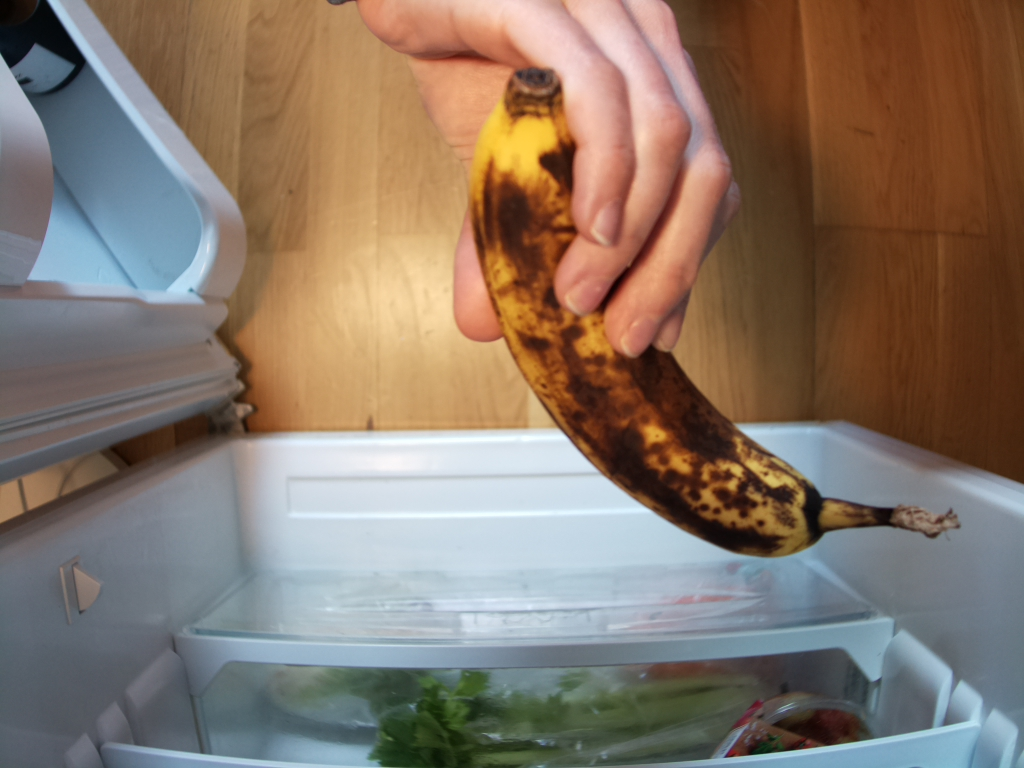banana-overripe: (470, 63, 961, 559)
